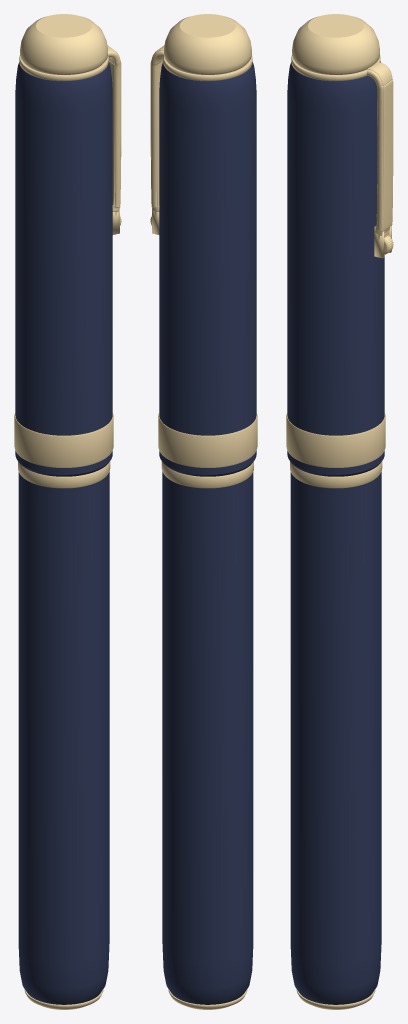
File: meridian.glb
The picture shows the model from 3 angles, left to right: view 1: azimuth 30°, elevation 25°; view 2: azimuth 150°, elevation 25°; view 3: azimuth 330°, elevation 25°; orthographic projection.
Visible parts, largest first — view 1: barrel, cap, cap_finial, cap_band, barrel_ring, cap_finial_top, clip_wheel, clip_classic, clip_minimal, barrel_finial; view 2: barrel, cap, cap_finial, cap_band, barrel_ring, cap_finial_top, clip_wheel, clip_classic, clip_minimal, barrel_finial; view 3: barrel, cap, cap_finial, cap_band, clip_minimal, clip_wheel, barrel_ring, cap_finial_top, clip_classic, barrel_finial.
Part boxes in pixels (bbox=[...]): barrel: bbox=[18, 472, 109, 1004]; cap: bbox=[15, 61, 112, 476]; cap_finial: bbox=[20, 14, 107, 74]; cap_band: bbox=[14, 413, 113, 467]; barrel_ring: bbox=[18, 461, 110, 488]; cap_finial_top: bbox=[36, 14, 91, 37]; clip_wheel: bbox=[112, 59, 120, 234]; clip_classic: bbox=[19, 50, 120, 217]; clip_minimal: bbox=[107, 45, 121, 211]; barrel_finial: bbox=[24, 989, 103, 1009]; barrel: bbox=[162, 472, 253, 1004]; cap: bbox=[159, 61, 256, 476]; cap_finial: bbox=[164, 14, 251, 74]; cap_band: bbox=[158, 413, 257, 467]; barrel_ring: bbox=[161, 461, 253, 488]; cap_finial_top: bbox=[180, 14, 235, 37]; clip_wheel: bbox=[151, 59, 159, 234]; clip_classic: bbox=[151, 50, 252, 217]; clip_minimal: bbox=[150, 45, 164, 211]; barrel_finial: bbox=[168, 989, 247, 1009]; barrel: bbox=[290, 472, 381, 1004]; cap: bbox=[287, 61, 384, 476]; cap_finial: bbox=[292, 14, 379, 74]; cap_band: bbox=[286, 413, 385, 467]; clip_minimal: bbox=[368, 62, 393, 235]; clip_wheel: bbox=[374, 77, 392, 258]; barrel_ring: bbox=[290, 461, 382, 488]; cap_finial_top: bbox=[308, 14, 363, 37]; clip_classic: bbox=[291, 55, 392, 240]; barrel_finial: bbox=[296, 989, 375, 1009].
Bounding box in the file's own units: 0.0161 × 0.1513 × 0.014.
